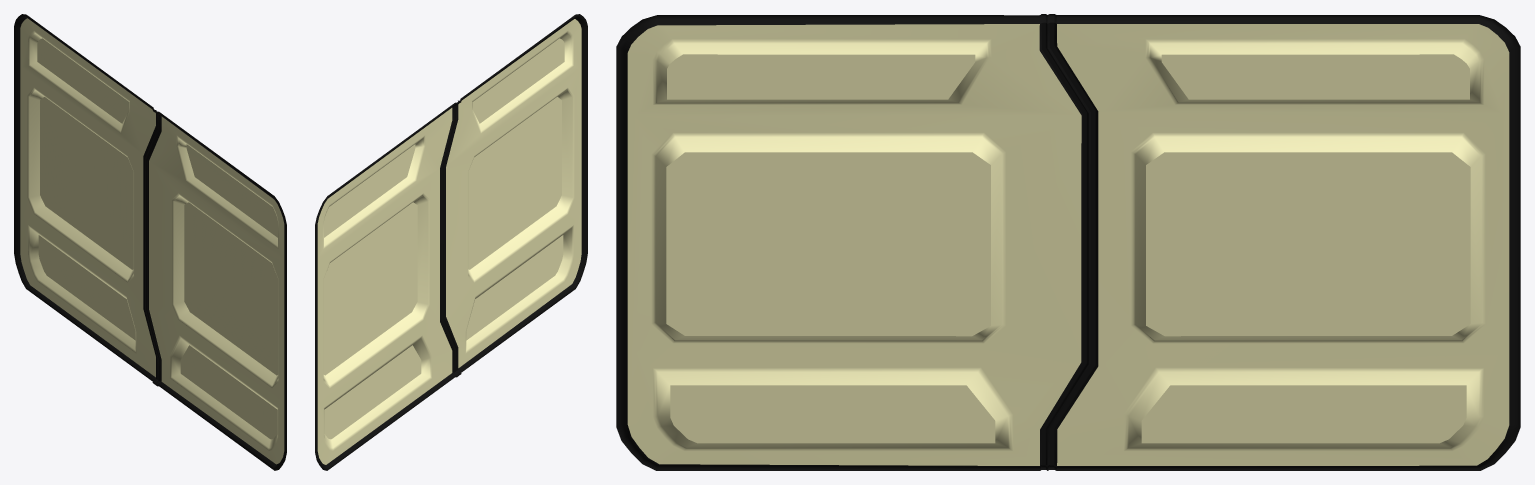
File: Bigdoor.fbx
The picture shows the model from 3 angles, left to right: view 1: azimuth 30°, elevation 25°; view 2: azimuth 150°, elevation 25°; view 3: azimuth 270°, elevation 25°; orthographic projection. The views are drawn at different scales.
Parts seen in each view (by area): view 1: BigDoor; view 2: BigDoor; view 3: BigDoor.
Boxes of the visible parts, x1,y1,x2,y2 form: BigDoor: (14, 14, 286, 470); BigDoor: (315, 14, 587, 470); BigDoor: (616, 14, 1520, 470).
Size of the model in its own units: 0.1132 by 2.34 by 4.22.
